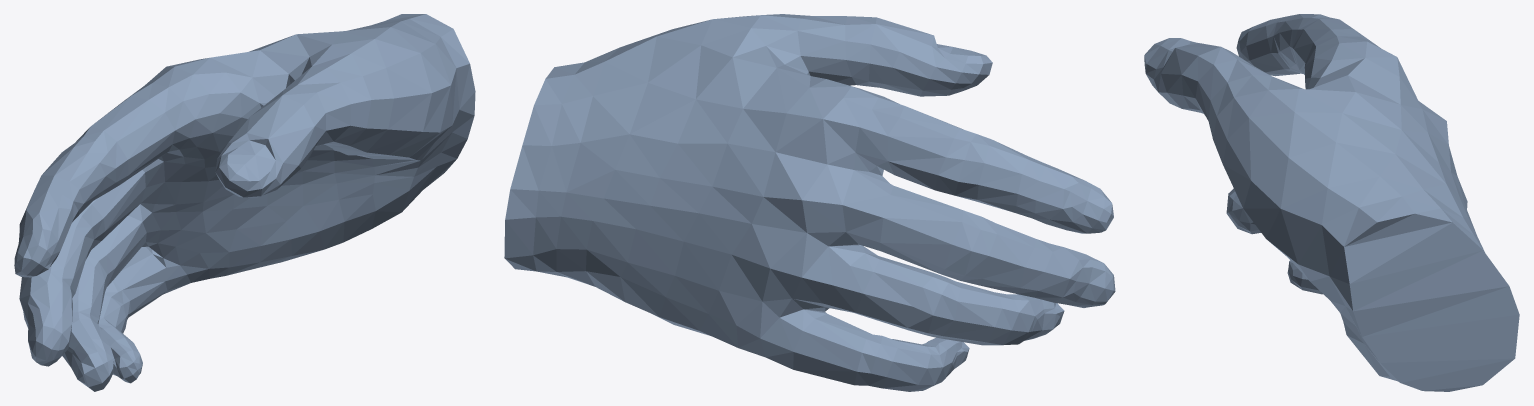
File: frame_00007_0.obj
The picture shows the model from 3 angles, left to right: view 1: azimuth 30°, elevation 25°; view 2: azimuth 150°, elevation 25°; view 3: azimuth 270°, elevation 25°; orthographic projection. The views are drawn at different scales.
Size of the model in its own units: 0.1723 by 0.0953 by 0.1061.
